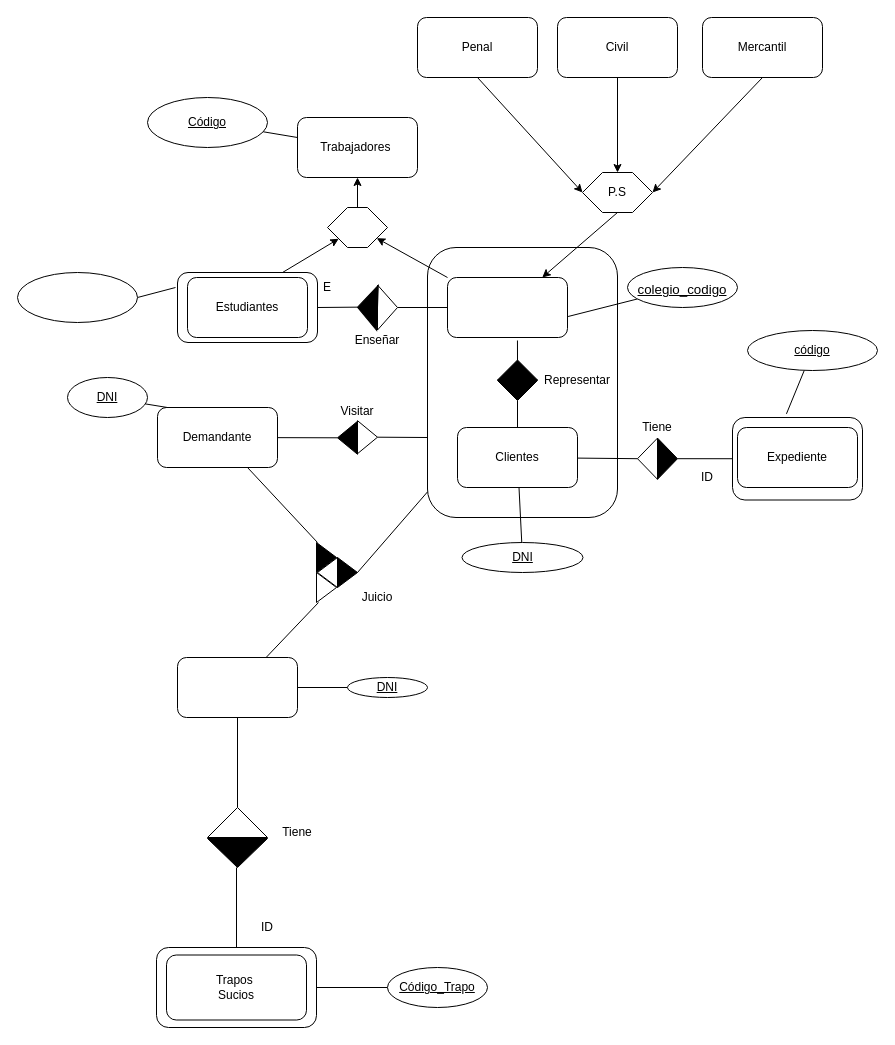
Some shapes in this 895 by 1045 pixel diagram are drawn without their labels. Each missing label, with the centre of its shape:
Abogados: [507,307]
Hard_Código: [77,297]
Juez: [237,687]
T.D: [357,227]
